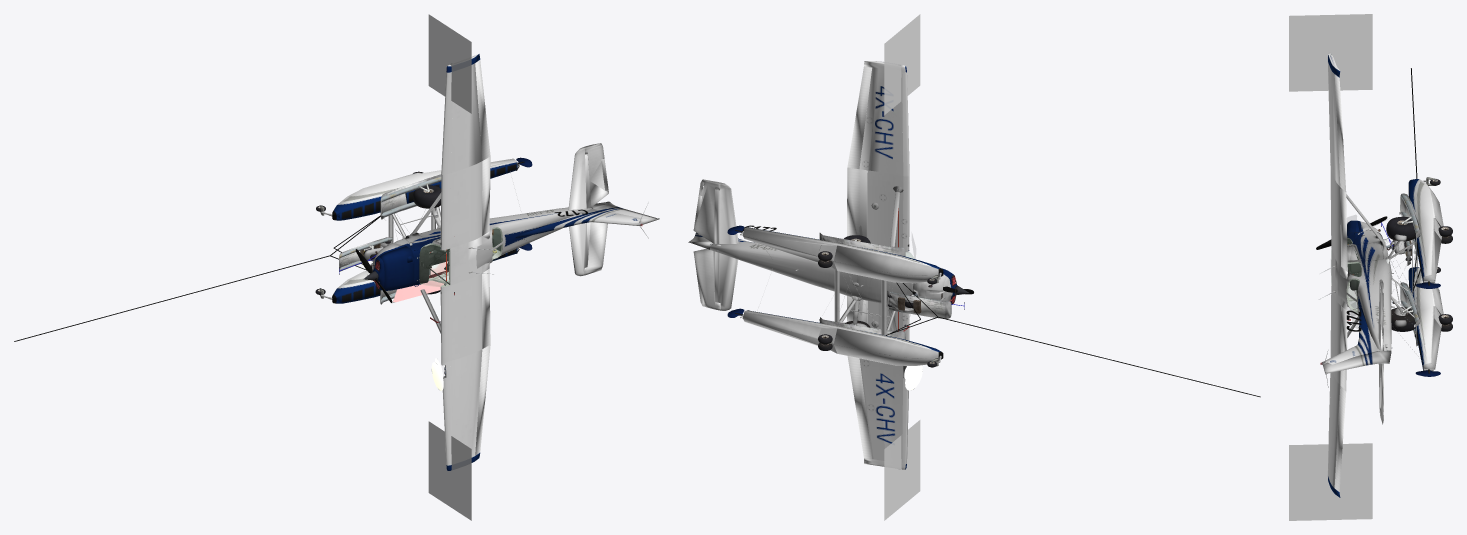
Rendered from c172-fg.559dec49.glb.
3 renders of one model, left to right at view 1: azimuth 30°, elevation 25°; view 2: azimuth 150°, elevation 25°; view 3: azimuth 270°, elevation 25°, orthographic. The views are drawn at different scales.
Parts seen in each view (by area): view 1: wing_center, strobe_light (×2), fuselage, wing_left, R-Float, wing_right, hstab, wing_leading_edge_center, glas, flaps, fuselage_cowling_top, vstab.001 (+7 smaller); view 2: strobe_light (×2), fuselage, L-Float, wing_left, wing_right, R-Float, wing_center, hstab, flaps, R-FloatC, rightaileron, elevatorleft (+6 smaller); view 3: strobe_light (×2), fuselage, R-Float, L-Float, wing_center, wing_right, wing_left, flaps, vstab.001, rudder, rightaileron, leftaileron (+13 smaller).
Part boxes in pixels (x1,y1,x2,y2): wing_center: (450, 161, 489, 360); strobe_light (×2): (428, 14, 471, 520); fuselage: (372, 192, 591, 333); wing_left: (446, 349, 482, 470); R-Float: (332, 158, 519, 220); wing_right: (446, 54, 482, 172); hstab: (568, 147, 591, 276); wing_leading_edge_center: (440, 173, 450, 363); glas: (420, 227, 502, 286); flaps: (482, 156, 490, 348); fuselage_cowling_top: (379, 246, 414, 290); vstab.001: (515, 208, 644, 237); strobe_light (×2): (884, 14, 920, 520); fuselage: (710, 186, 957, 331); L-Float: (740, 310, 943, 365); wing_left: (859, 358, 906, 469); wing_right: (859, 61, 906, 175); R-Float: (740, 227, 943, 275); wing_center: (867, 170, 903, 331); hstab: (714, 182, 738, 310); flaps: (847, 167, 867, 323); R-FloatC: (740, 233, 943, 283); rightaileron: (847, 66, 871, 168); elevatorleft: (693, 248, 720, 310); strobe_light (×2): (1289, 14, 1372, 520); fuselage: (1337, 194, 1391, 351); R-Float: (1408, 179, 1443, 282); L-Float: (1408, 267, 1443, 371); wing_center: (1331, 169, 1347, 385); wing_right: (1328, 53, 1340, 186); wing_left: (1328, 372, 1340, 497); flaps: (1340, 187, 1347, 390); vstab.001: (1321, 308, 1380, 364); rudder: (1323, 350, 1391, 373); rightaileron: (1334, 74, 1346, 192); leftaileron: (1334, 386, 1346, 491).
Size of what is drawn, in the model's own units: 17.61 by 13.32 by 3.92.
164 materials, 153 textured.
